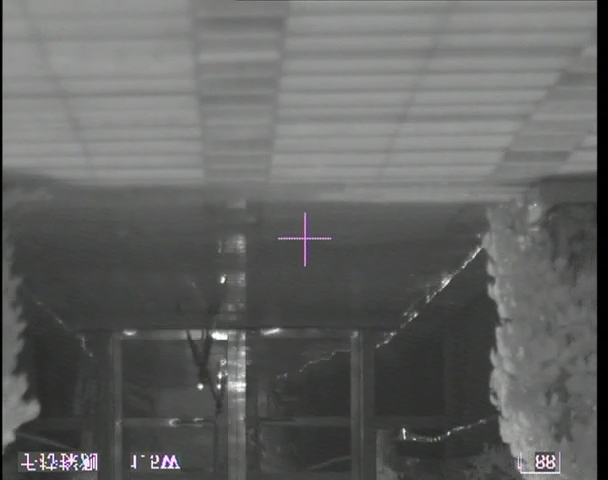my: (196, 382, 206, 391)
